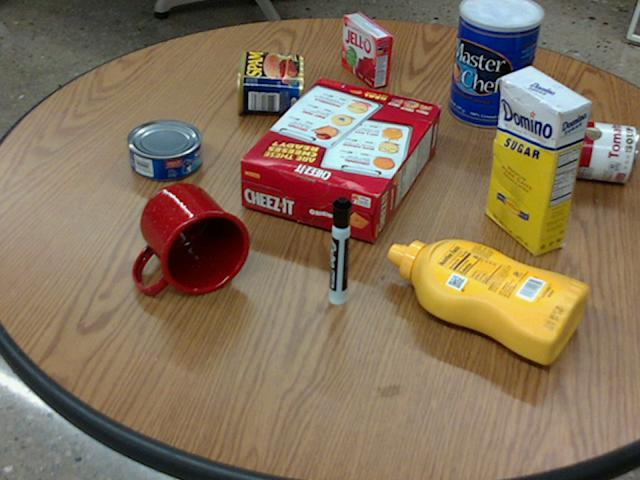cracker_box: (239, 79, 439, 242)
gelatin_box: (342, 12, 392, 86)
large_marker: (327, 196, 350, 304)
master_chef_can: (449, 0, 542, 127)
mug: (131, 183, 248, 294)
mustard_bottle: (387, 239, 587, 363)
potted_meat_can: (236, 48, 302, 112)
sugar_box: (487, 66, 589, 255)
tomato_soup_can: (538, 115, 636, 181)
tuna_fish_can: (126, 119, 200, 179)
